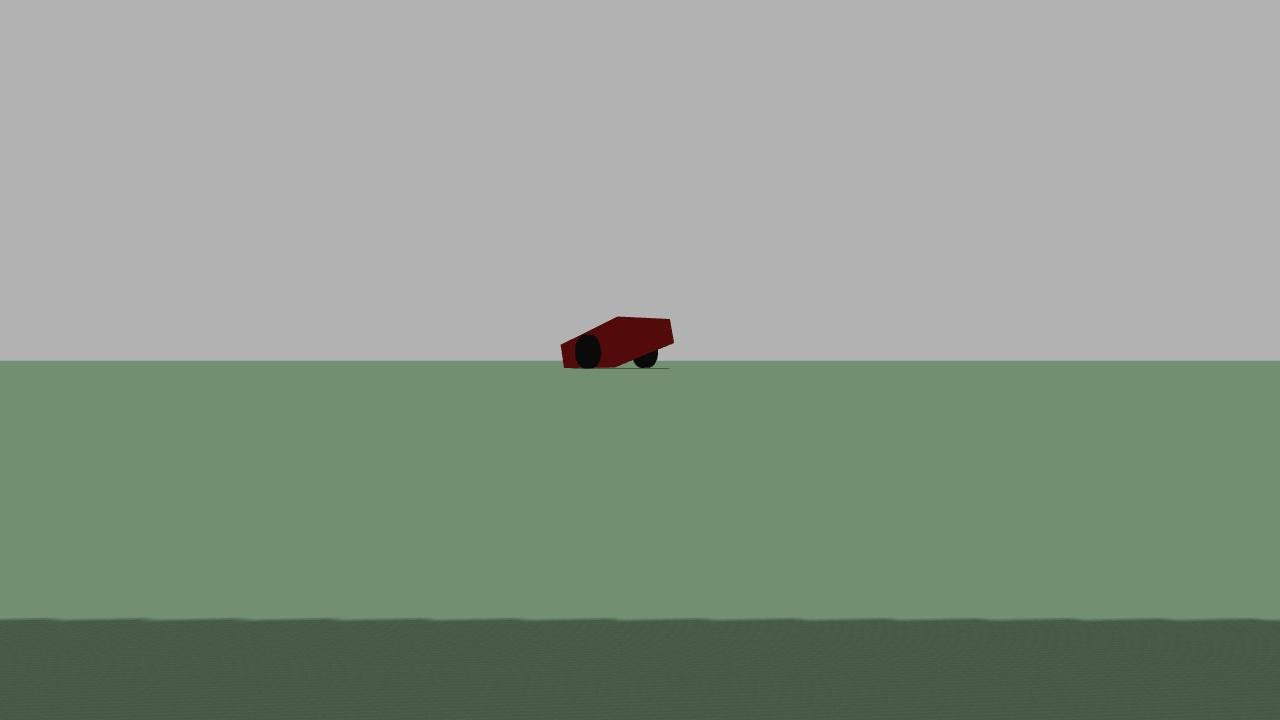ground_vehicle: (545, 303, 678, 377)
